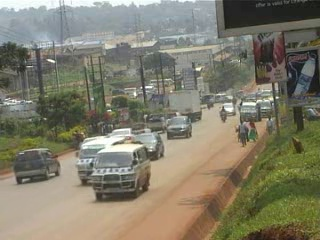Car: (12, 144, 62, 184), (134, 129, 165, 164), (164, 112, 196, 140), (108, 126, 137, 145), (218, 100, 237, 116), (162, 111, 184, 119)
Motorcycle: (216, 106, 228, 124)
